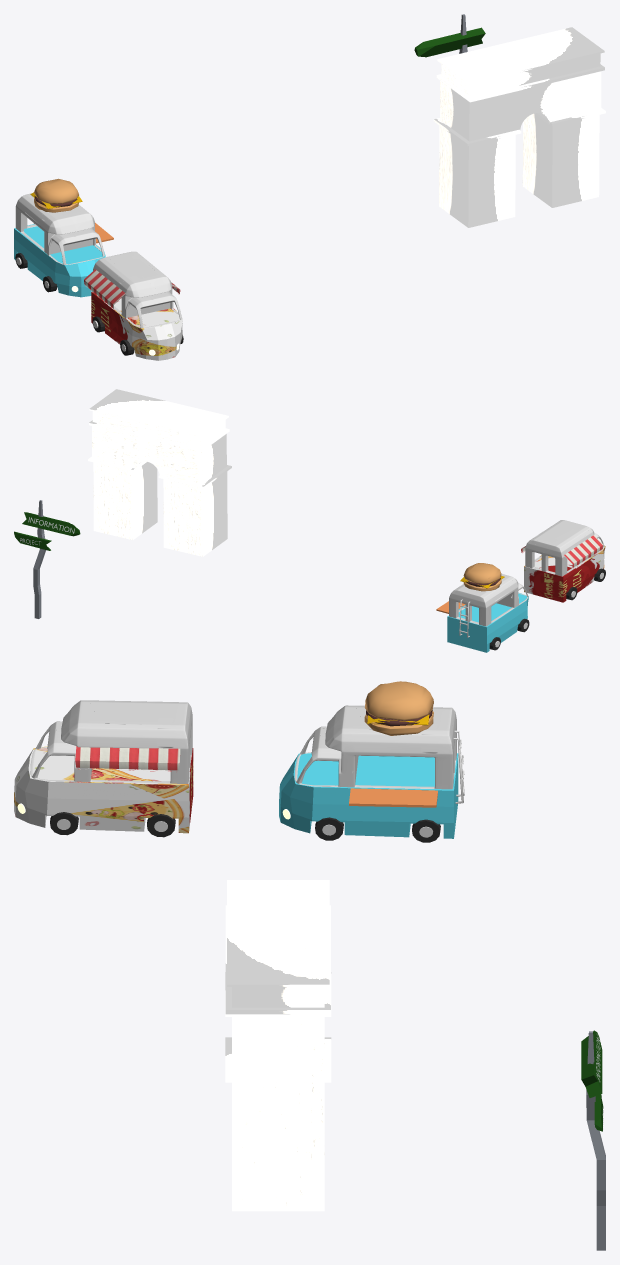
File: environment.glb
The picture shows the model from 3 angles, top to bottom: view 1: azimuth 30°, elevation 25°; view 2: azimuth 150°, elevation 25°; view 3: azimuth 270°, elevation 25°; orthographic projection. The views are drawn at different scales.
Visible parts, largest first — view 1: Cube.005, Mesh_1.002, Cube.006, Mesh_1.003, Cube.007, Cube.002, Cube.009, Object_17.002; view 2: Cube.005, Cube.007, Mesh_1.002, Cube.006, Mesh_1.003, Cube.002, Cube.001, Object_17.002, Cube.009, Cube.003; view 3: Cube.005, Cube.006, Cube.007, Mesh_1.002, Mesh_1.003, Object_17.002, Cube.009, Cube.001, Cube.004, Cube.002.
Part boxes in pixels (x1,y1,x2,y2): Cube.005: (433, 27, 605, 227); Mesh_1.002: (93, 251, 182, 328); Cube.006: (91, 291, 182, 360); Mesh_1.003: (15, 193, 104, 264); Cube.007: (14, 224, 105, 297); Cube.002: (414, 27, 485, 57); Cube.009: (34, 178, 78, 203); Object_17.002: (84, 269, 180, 309); Cube.005: (88, 389, 231, 556); Cube.007: (447, 592, 528, 652); Mesh_1.002: (525, 520, 604, 576); Cube.006: (524, 545, 605, 602); Mesh_1.003: (449, 573, 528, 626); Cube.002: (22, 512, 80, 536); Cube.001: (33, 500, 45, 618); Object_17.002: (521, 535, 603, 568); Cube.009: (463, 563, 501, 583); Cube.003: (14, 531, 51, 550); Cube.005: (225, 880, 331, 1211); Cube.006: (14, 746, 193, 833); Cube.007: (279, 753, 458, 838); Mesh_1.002: (30, 700, 192, 783); Mesh_1.003: (294, 705, 456, 789); Object_17.002: (75, 746, 180, 771); Cube.009: (364, 681, 433, 720); Cube.001: (586, 1031, 605, 1250); Cube.004: (349, 788, 437, 807); Cube.002: (581, 1030, 602, 1097).
Size of what is drawn, in the model's own units: 13.71 by 4.37 by 8.25.
Materials: 15 (3 with a texture image).
